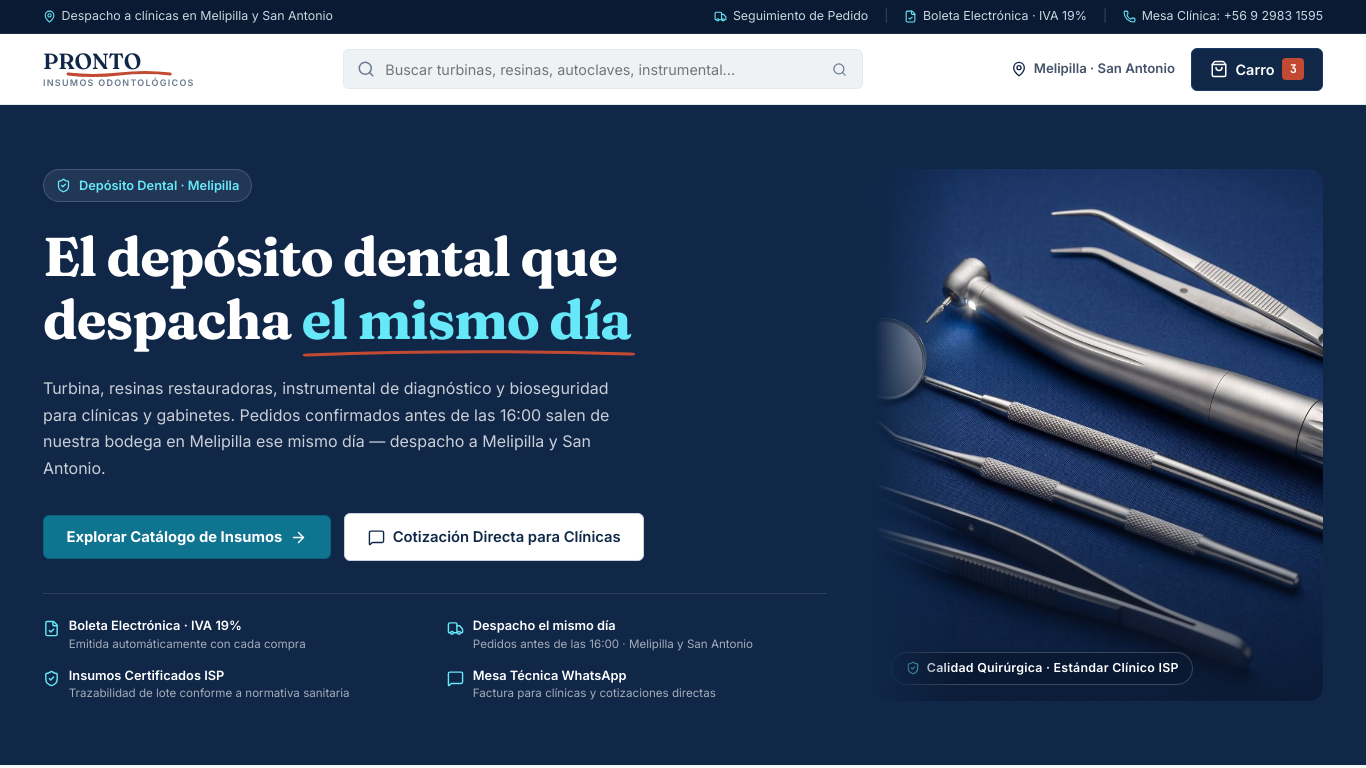
Test: App Shopping Cart Persistence (localStorage) › should hydrate cart items and applied promo code from localStorage on mount
Expected: the text with class "cart-count-badge" reads "3", [1290, 61, 1297, 77]
Open cart drawer
Click the button with aria-label "Abrir Carro de Compras". click: click(1257, 69)
box: [1191, 48, 1323, 91]
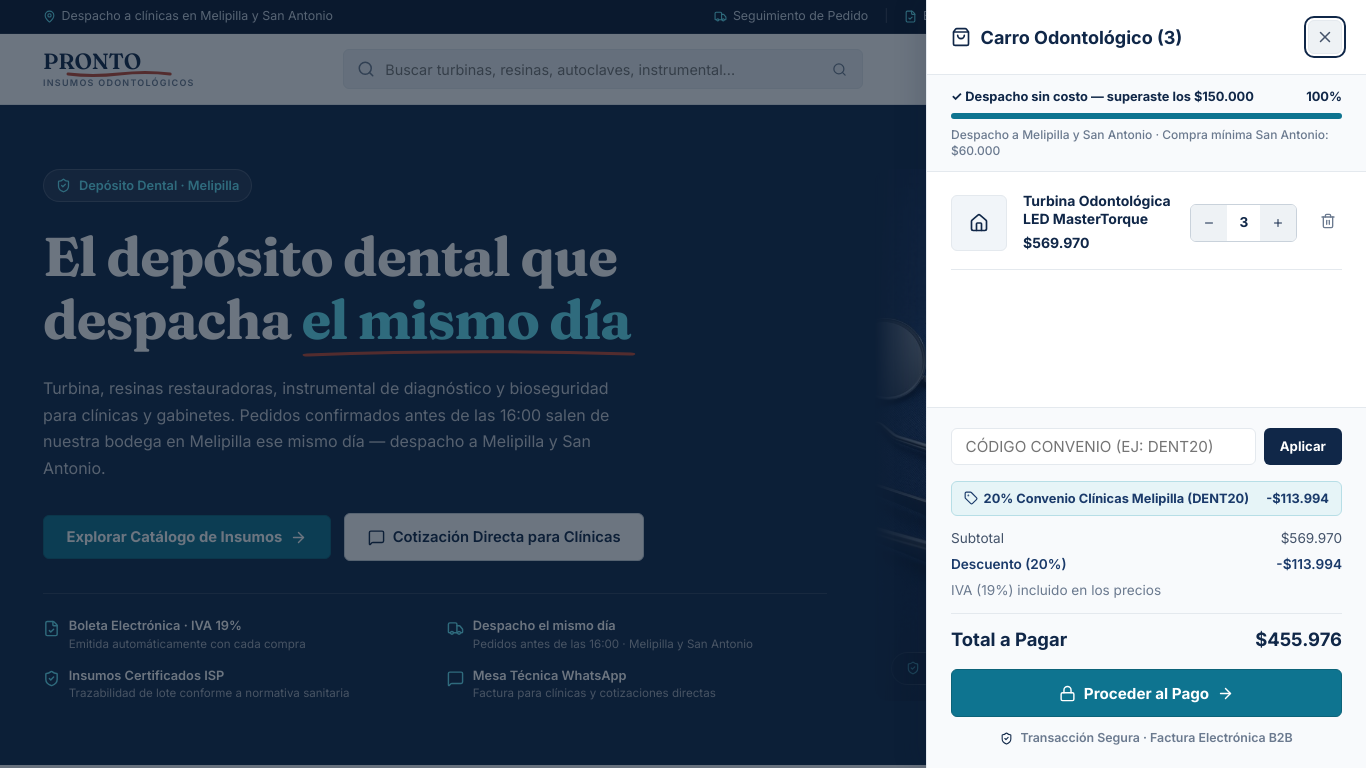
Expected: the text "Turbina Odontológica LED MasterTorque" is shown, [1023, 192, 1174, 228]
Expected: the text "20% Convenio Clínicas Melipilla (DENT20)" is shown, [984, 489, 1249, 508]
